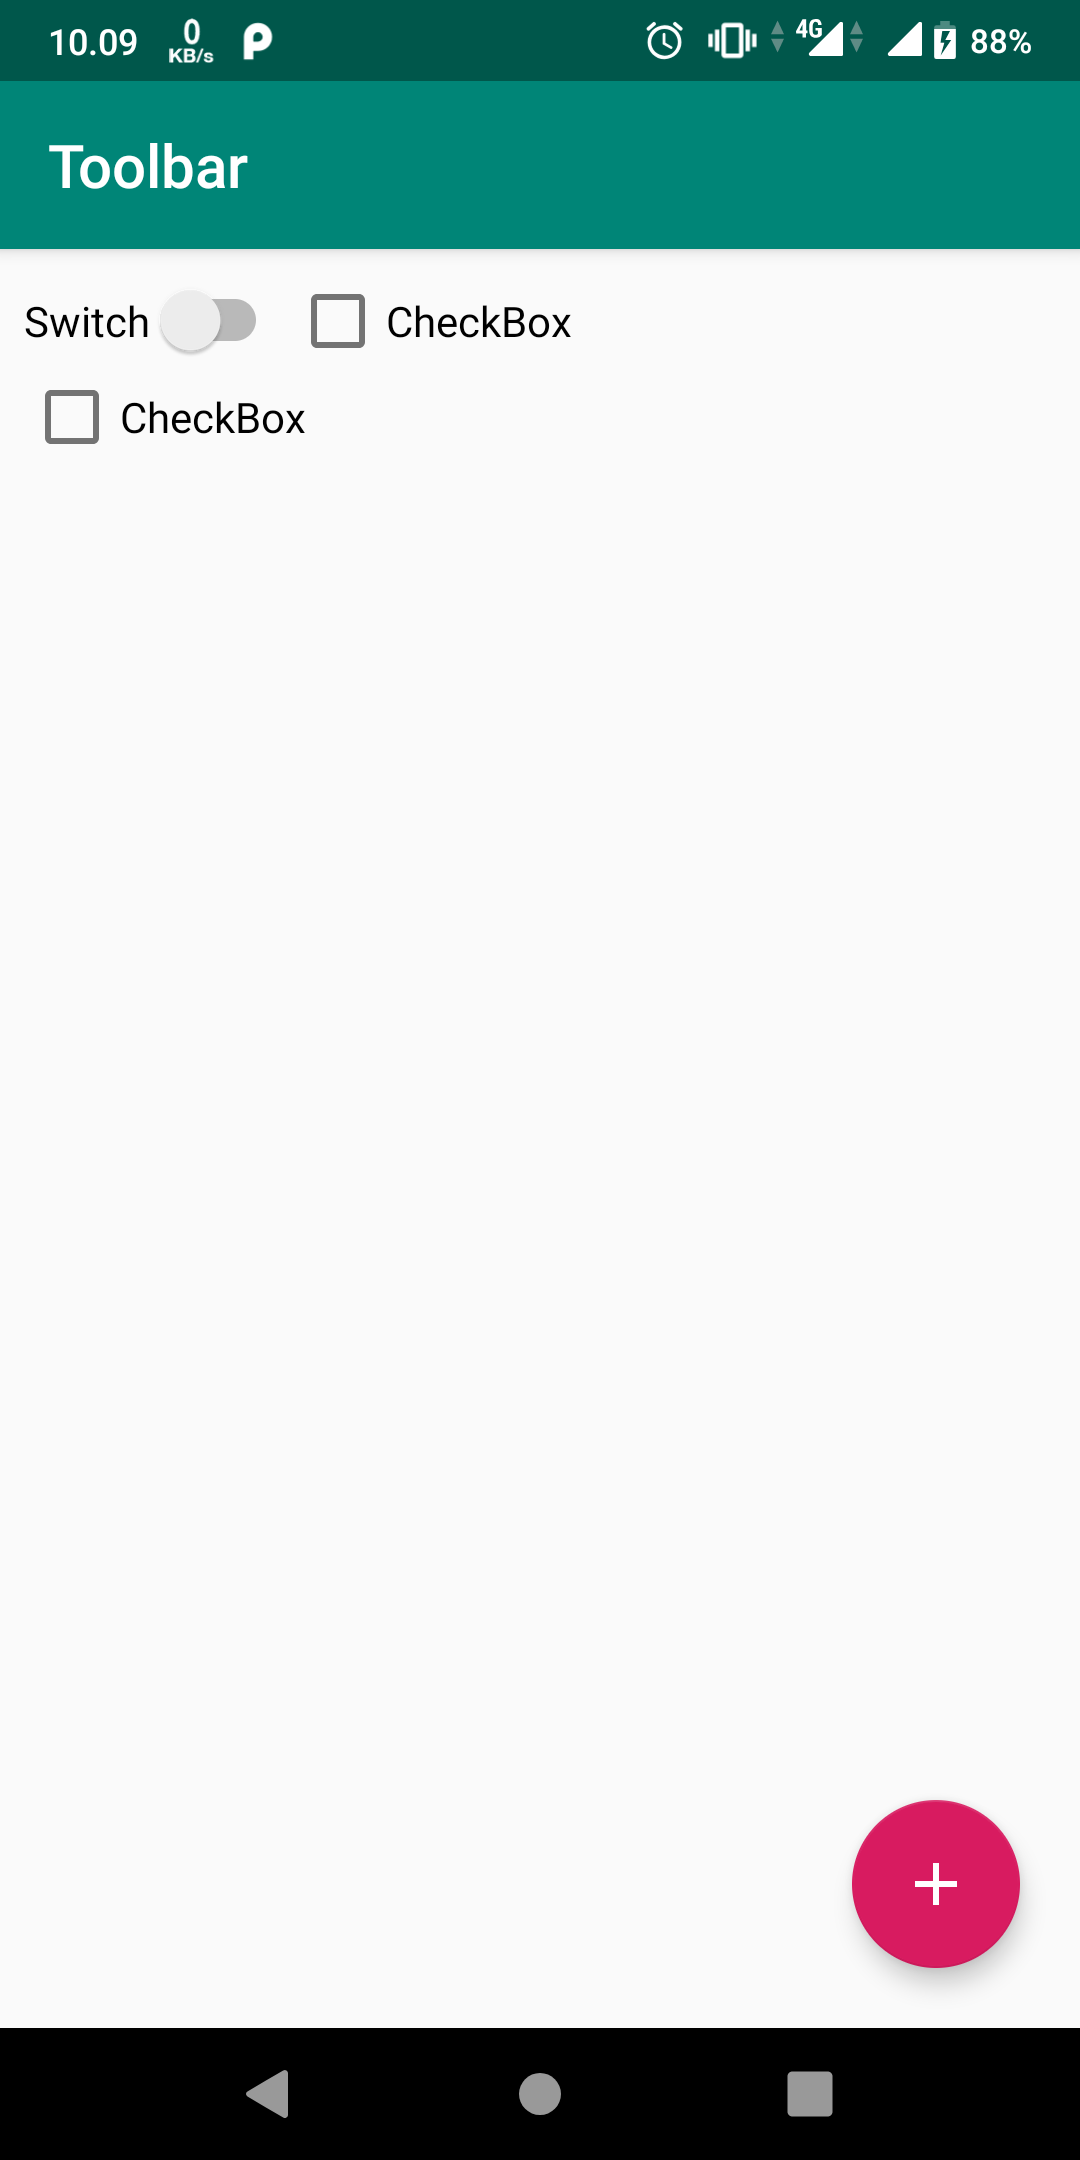checkBox: (39, 377, 311, 455), (306, 287, 580, 357)
floatingButton: (842, 1789, 1028, 1980)
switch: (12, 293, 264, 354)
toolbar: (3, 77, 1080, 247)
